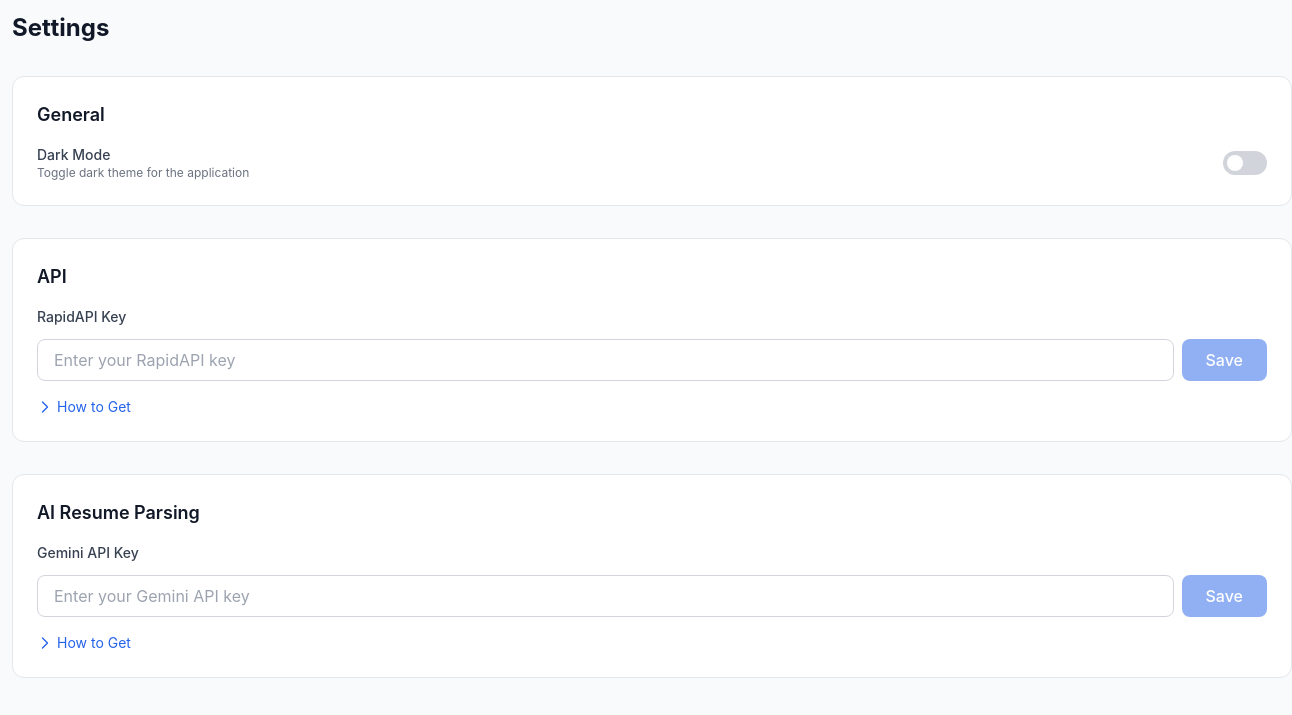
Test: Settings › toggles How to Get guide
Click the button with test id "how-to-get-toggle".
click(84, 407)  # box top-left (37, 397), bottom-right (131, 417)
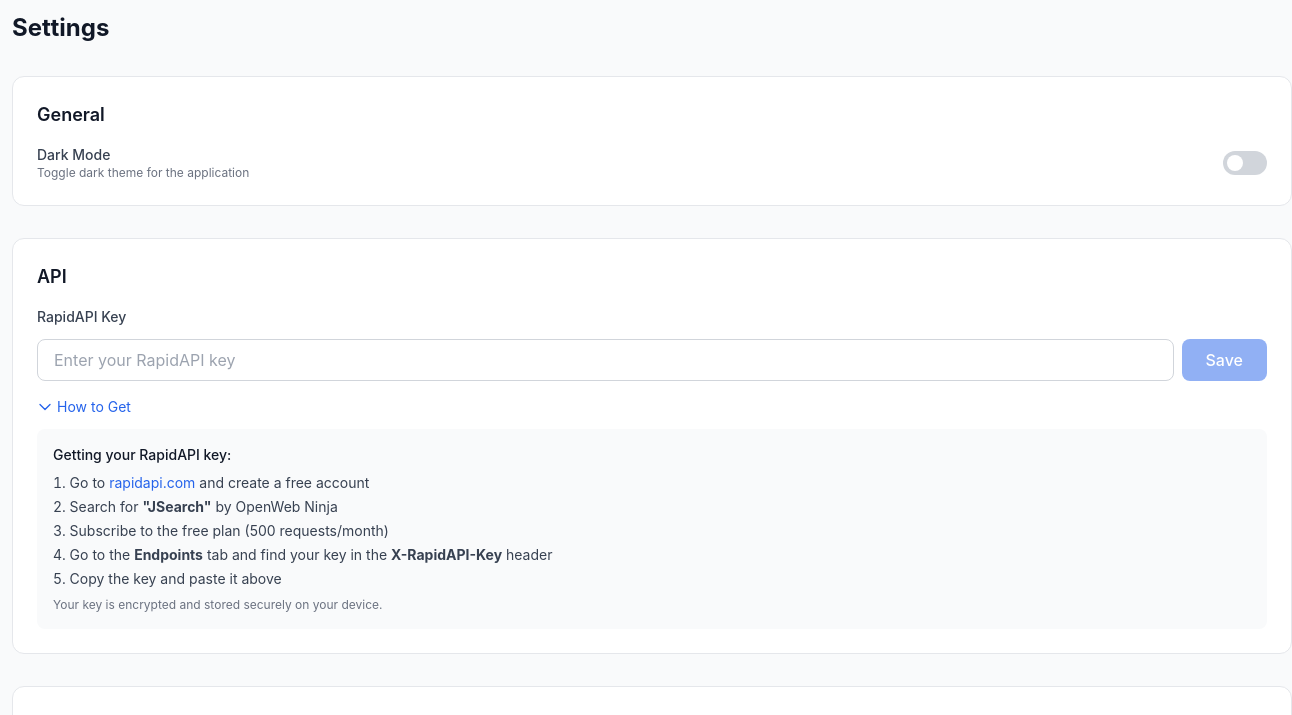
expect the element with test id "api-key-guide" is shown: met, box top-left (37, 429), bottom-right (1267, 629)
Click the button with test id "how-to-get-toggle".
click(84, 407)  # box top-left (37, 397), bottom-right (131, 417)
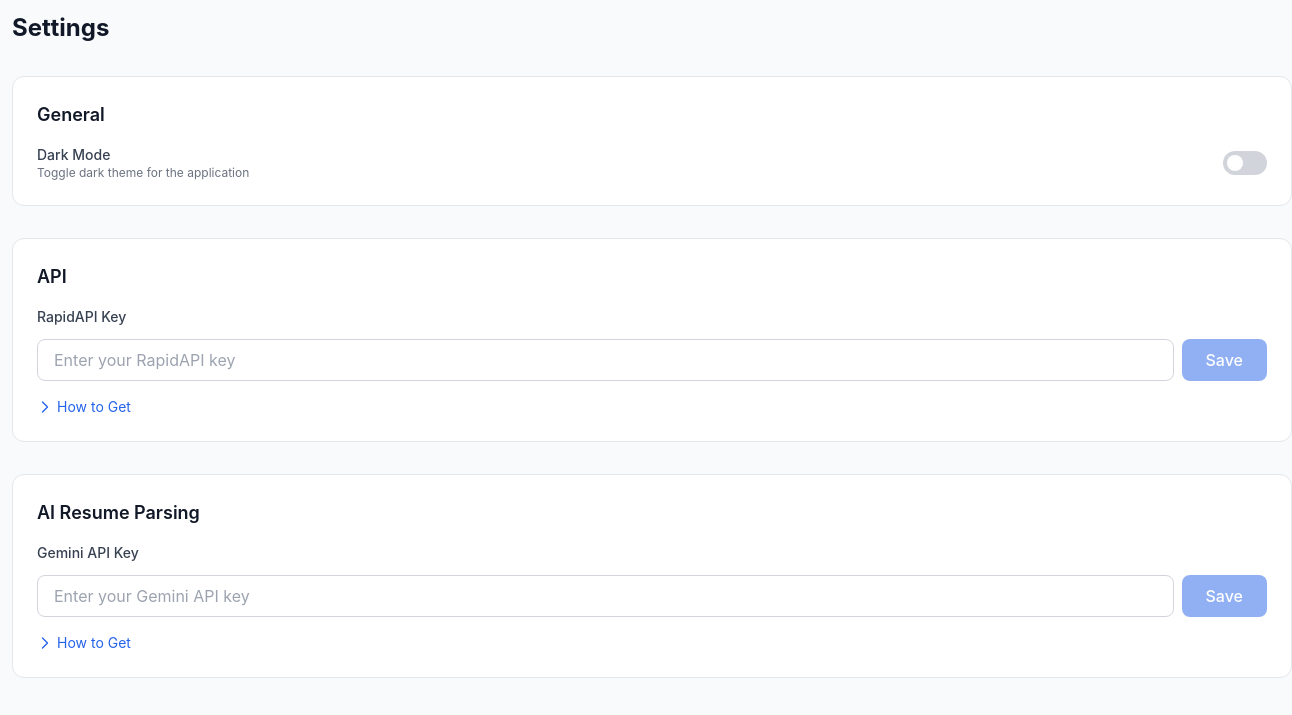
expect the element with test id "api-key-guide" is gone: met
